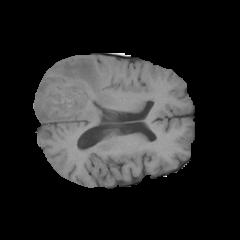glioma: (35, 57, 107, 125)
